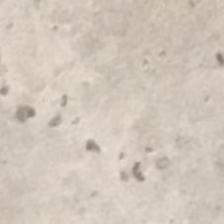Non_Crack: (12, 21, 210, 185)
